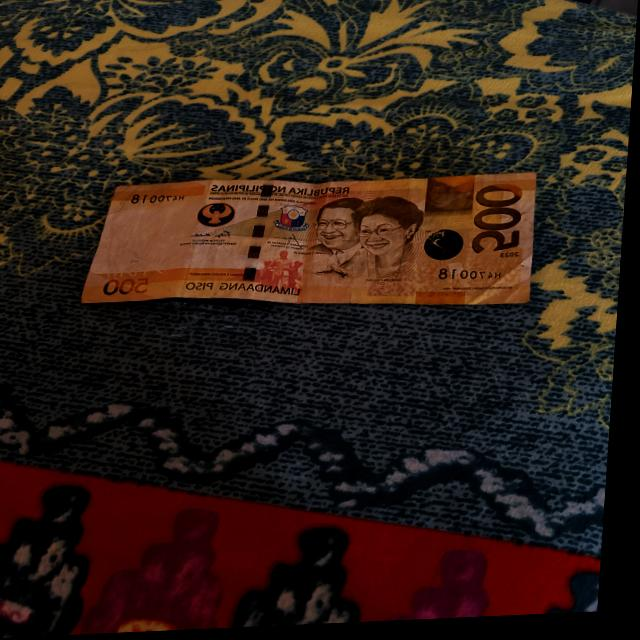concealed_value: (426, 181, 480, 222)
optically_variable_device: (426, 233, 465, 267)
value: (465, 185, 533, 265)
watermark: (103, 201, 208, 274)
